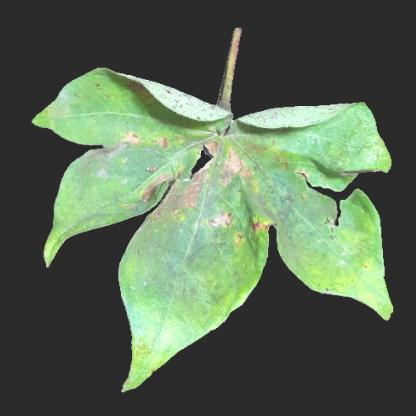curl_stage1: (313, 231, 370, 287), (130, 305, 184, 361), (199, 283, 241, 319), (247, 217, 273, 237), (250, 171, 268, 195)
healthy: (59, 81, 119, 141), (288, 110, 356, 150)
sooty: (133, 146, 245, 266), (134, 263, 188, 303), (86, 146, 126, 182)
